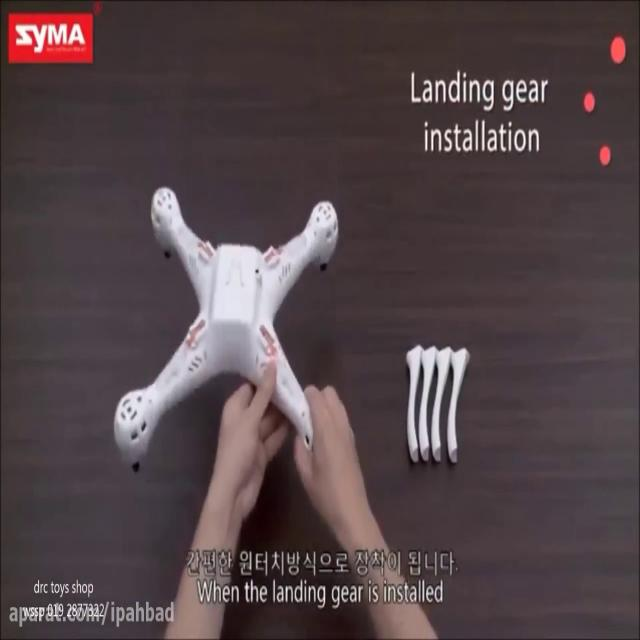drone: (110, 182, 344, 475)
